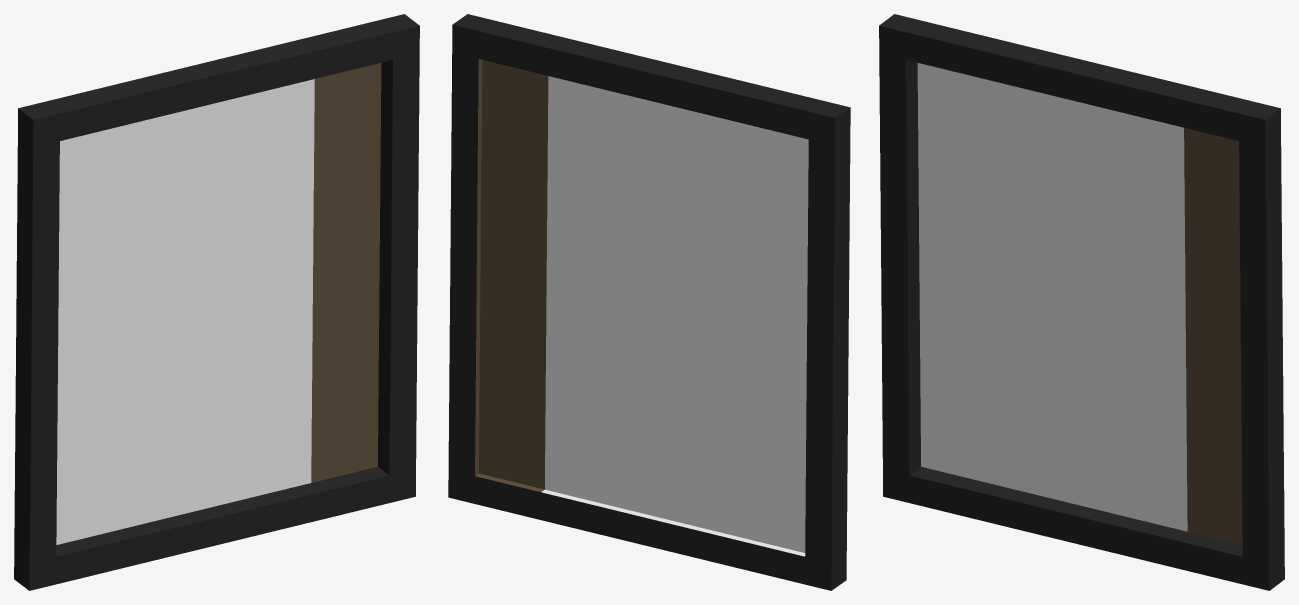
The picture shows the model from 3 angles, left to right: view 1: azimuth 30°, elevation 25°; view 2: azimuth 150°, elevation 25°; view 3: azimuth 330°, elevation 25°; orthographic projection.
Parts seen in each view (by area): view 1: Group_001; view 2: Group_001; view 3: Group_001.
Part boxes in pixels (bbox=[...]): Group_001: bbox=[14, 14, 419, 590]; Group_001: bbox=[448, 14, 850, 590]; Group_001: bbox=[879, 14, 1284, 590].
Bounding box in the file's own units: 580 × 681 × 50.68.
